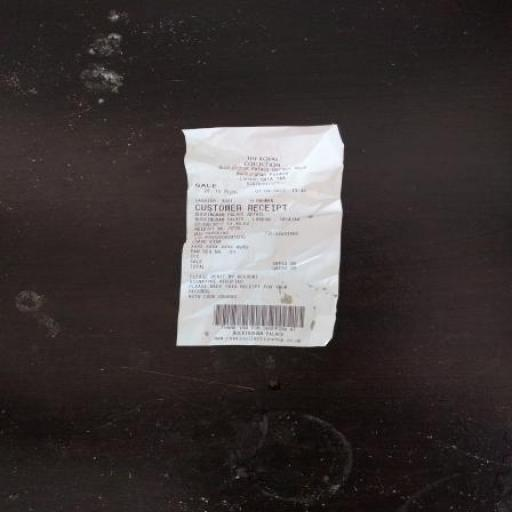paper: (130, 104, 373, 397)
